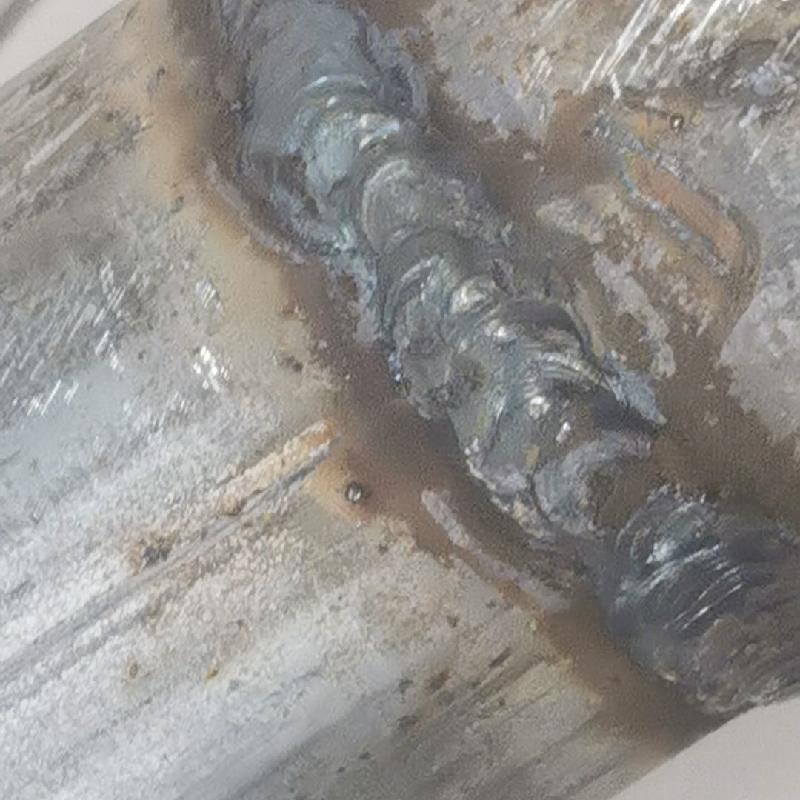good: (157, 1, 798, 714)
